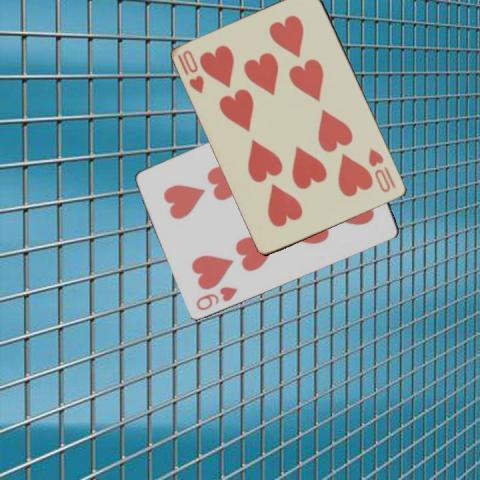10h: (365, 145, 398, 194), (175, 47, 206, 96)
9h: (193, 283, 239, 311)
